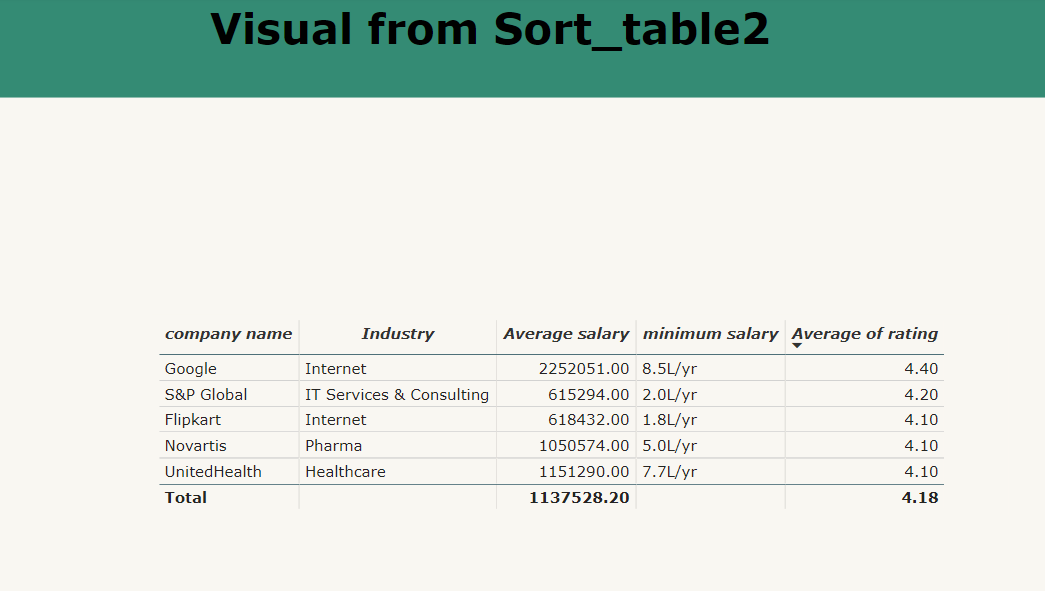

Layout of this report page (visuals, bound fields, positions):
{"tool":"powerbi","page":{"name":"Sort_table2","canvas":[1280,720],"ordinal":5},"visuals":[{"type":"tableEx","fields":{"Values":["Sort_table2.company_name","Sort_table2.Industry","Avg(Sort_table2.avg_salary)","Sort_table2.min_salary","Avg(Sort_table2.rating)"]},"box":[339.4,283.9,762.7,178.1],"z":0},{"type":"textbox","box":[0,0,1280.3,90.3],"z":1000}]}

Visuals, with their boxes in screenshot pixels (x1, y1, x2, y2), scaled from the page's 1280x720 canvas onto the 1045x591 screenshot:
tableEx - Sort_table2.company_name x Sort_table2.Industry: x1=277, y1=233, x2=900, y2=379
textbox: x1=0, y1=0, x2=1044, y2=74
